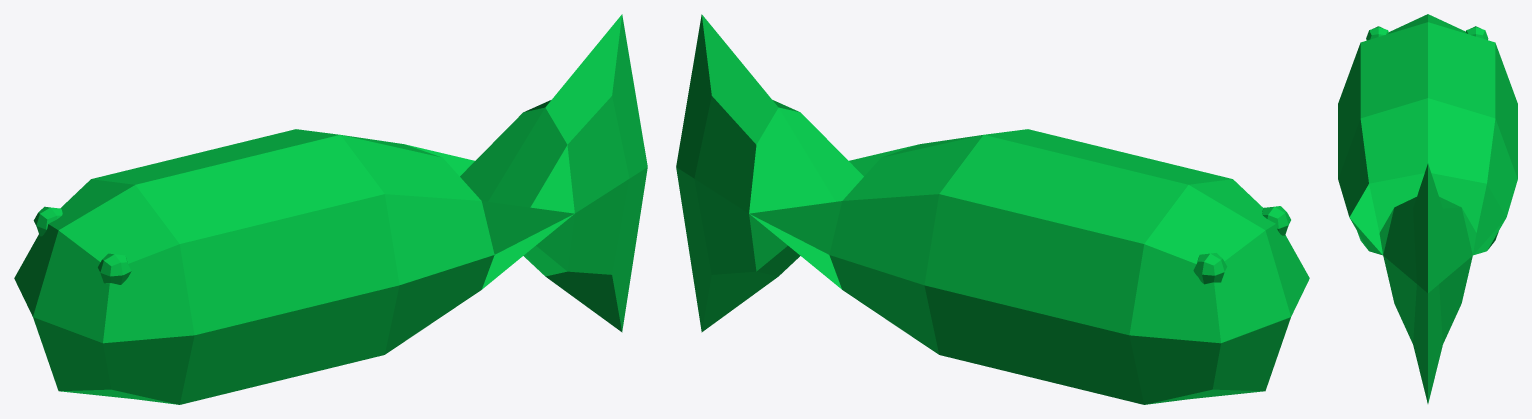
The model's file is green_fish.obj.
3 renders of one model, left to right at view 1: azimuth 30°, elevation 25°; view 2: azimuth 150°, elevation 25°; view 3: azimuth 270°, elevation 25°, orthographic. The views are drawn at different scales.
Visible parts, largest first — view 1: Cube, Cube.001; view 2: Cube, Cube.002; view 3: Cube, Cube.001, Cube.002.
Part boxes in pixels (box(x1,y1,x2,y2)): Cube: box(14, 14, 647, 404); Cube.001: box(98, 253, 131, 284); Cube: box(676, 14, 1309, 404); Cube.002: box(1193, 253, 1227, 284); Cube: box(1338, 14, 1517, 403); Cube.001: box(1366, 26, 1388, 40); Cube.002: box(1465, 26, 1488, 39).
Size of the model in its own units: 6 by 2.97 by 2.
